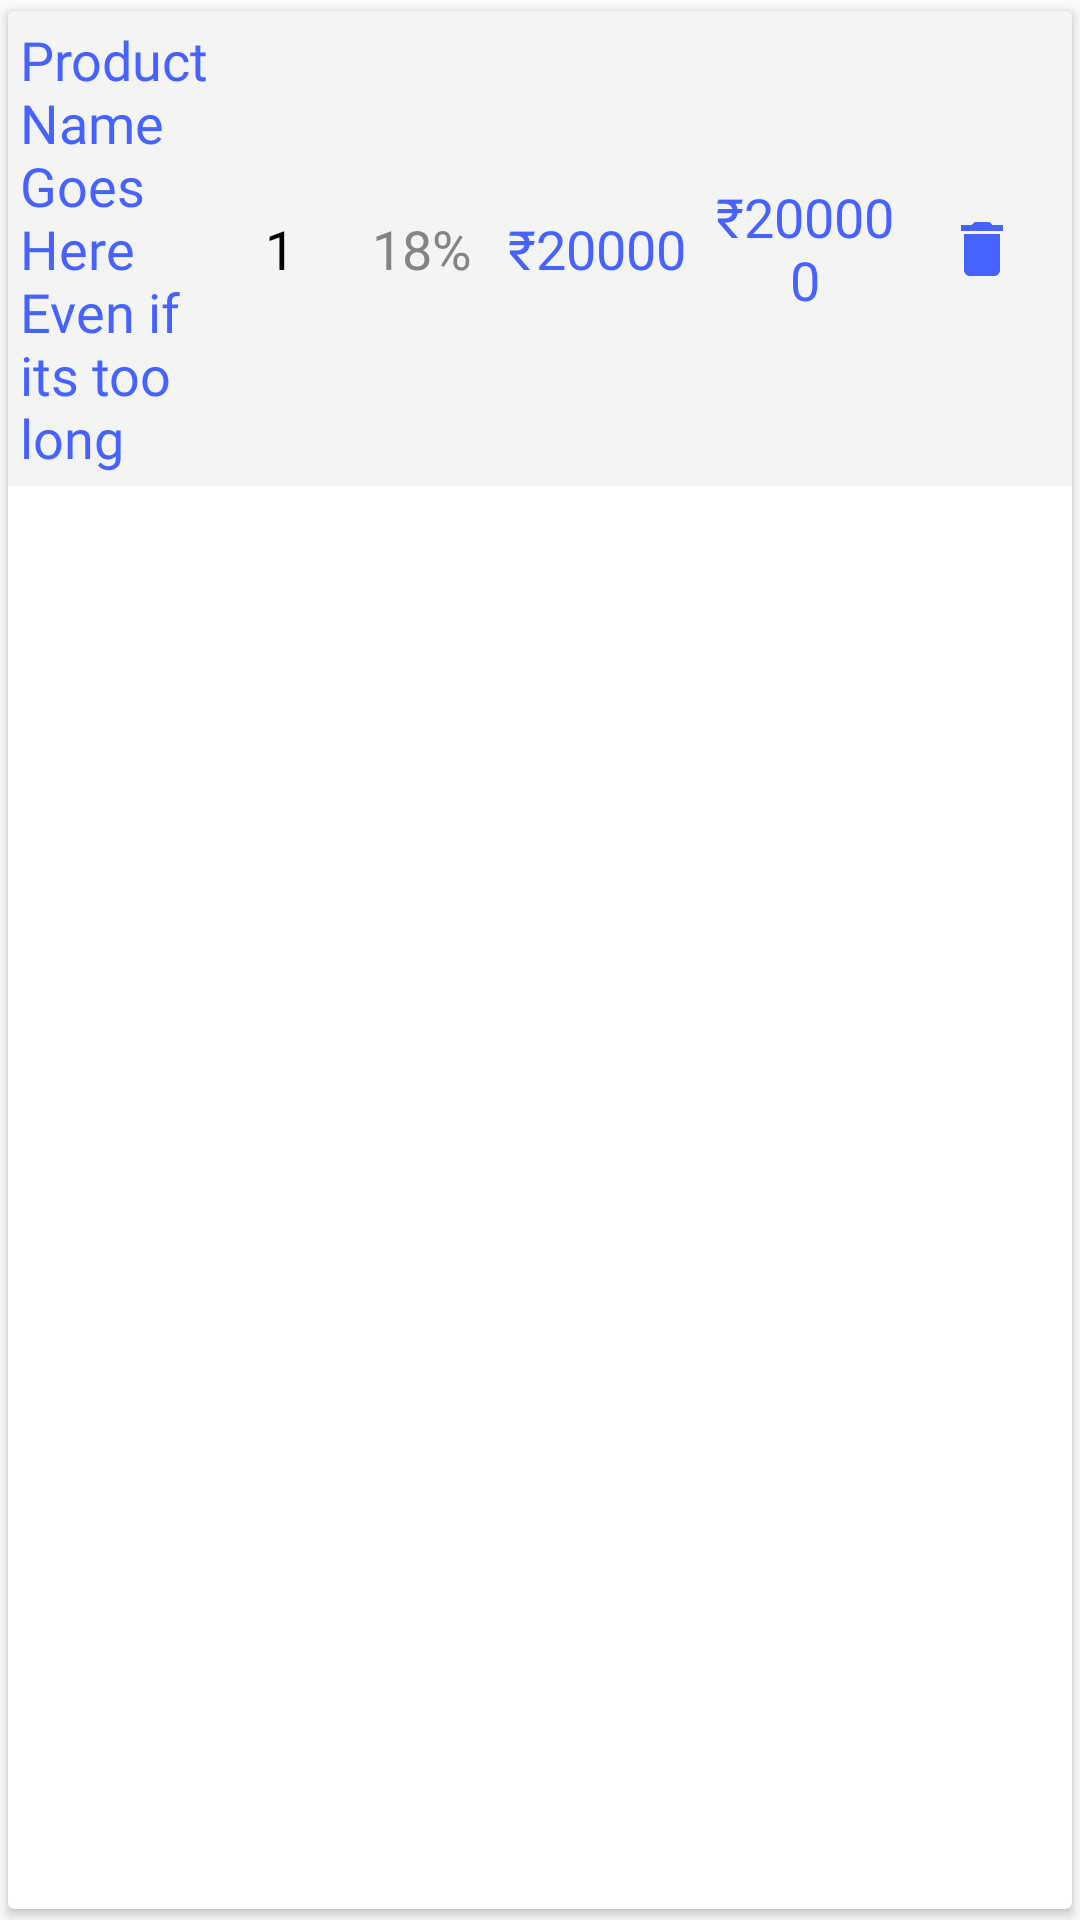

Icon click points for this 1080px x 1920px phone screenshot, format point (x, y):
delete: point (982, 249)
